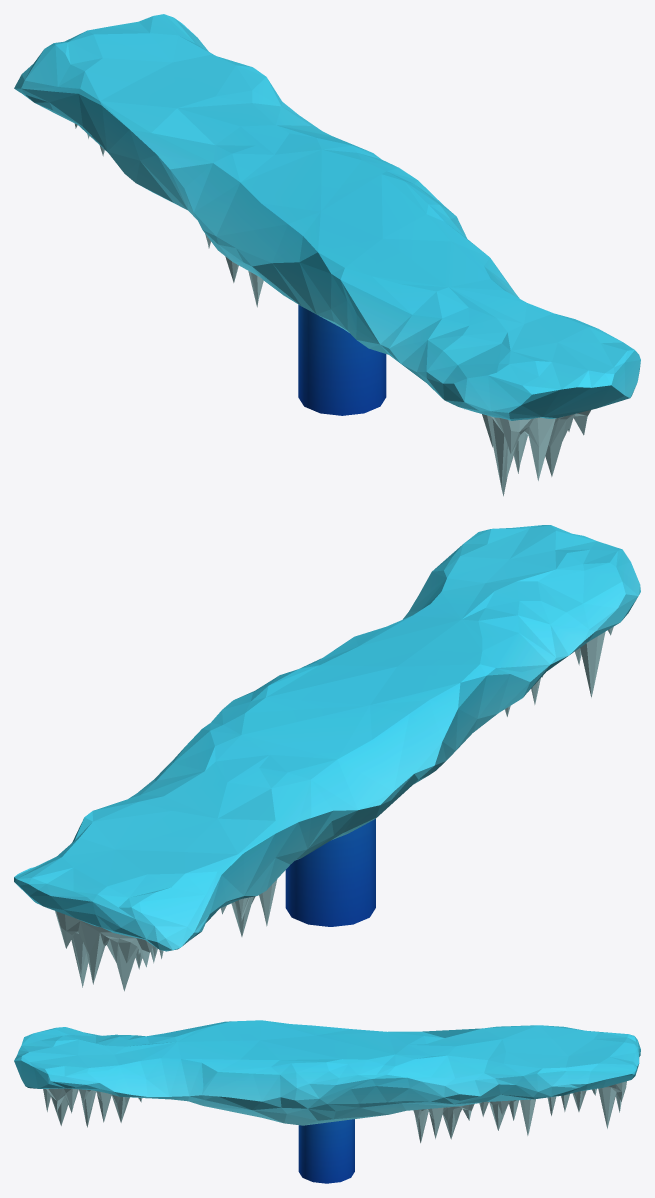
Rendered from obstacle_14_002.fbx.
3 views of the same model, one above another, from view 1: azimuth 30°, elevation 25°; view 2: azimuth 150°, elevation 25°; view 3: azimuth 270°, elevation 25° (orthographic). The views are drawn at different scales.
Parts seen in each view (by area): view 1: obstacle_14_002; view 2: obstacle_14_002; view 3: obstacle_14_002.
Boxes of the visible parts, left/top/right/bottom form: obstacle_14_002: left=14, top=14, right=640, bottom=496; obstacle_14_002: left=14, top=525, right=640, bottom=991; obstacle_14_002: left=14, top=1020, right=640, bottom=1183.
Size of the model in its own units: 228 by 1011 by 229.
